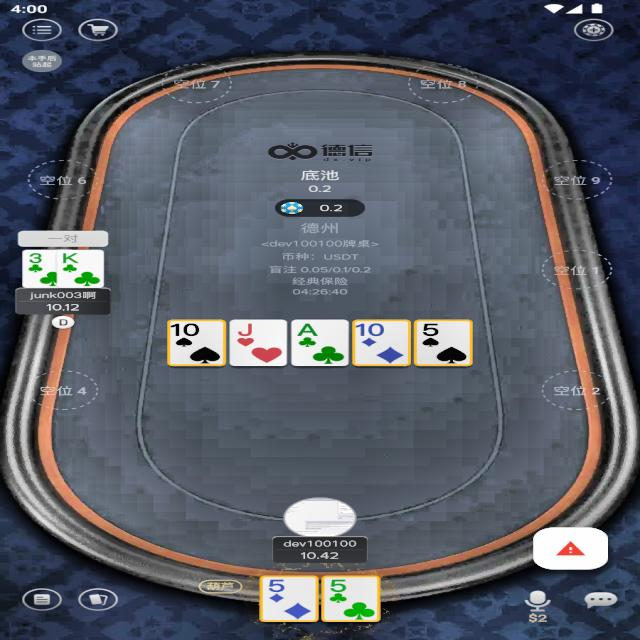10f: (356, 321, 384, 337)
10s: (168, 321, 202, 338)
3m: (26, 252, 44, 264)
5f: (265, 578, 289, 593)
5m: (327, 577, 351, 594)
5s: (418, 322, 445, 338)
Am: (297, 321, 321, 338)
Jh: (232, 322, 259, 338)
Km: (57, 250, 84, 265)
